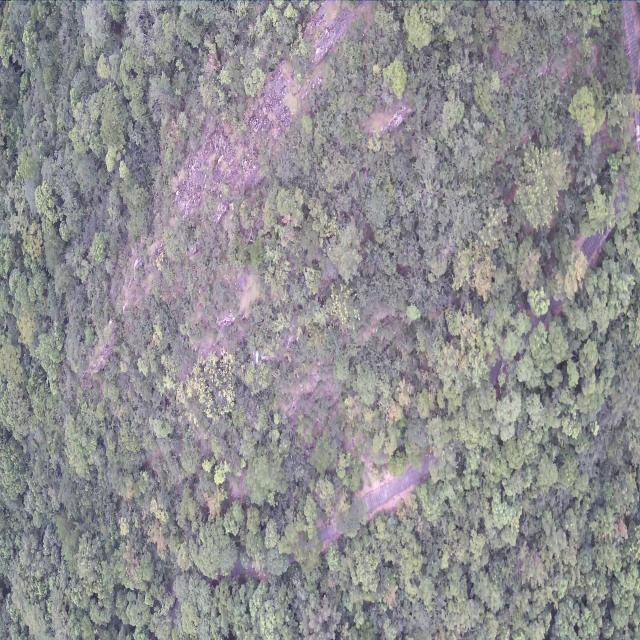drone: (251, 348, 262, 367)
